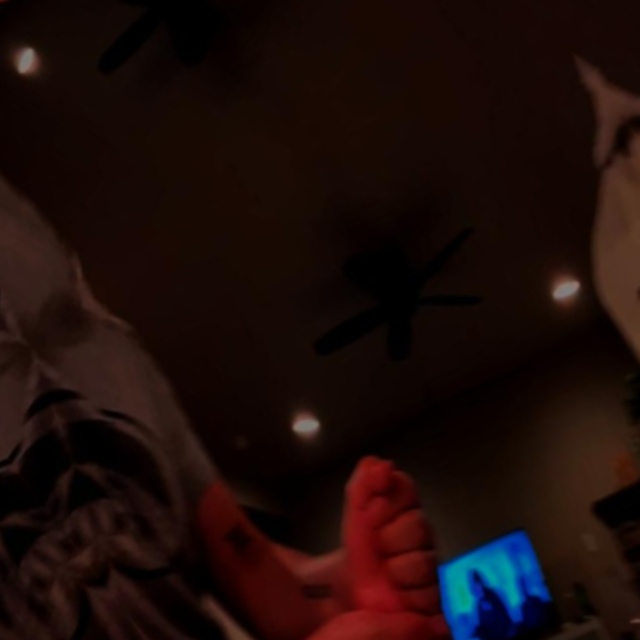Rock: (0, 0, 50, 73)
